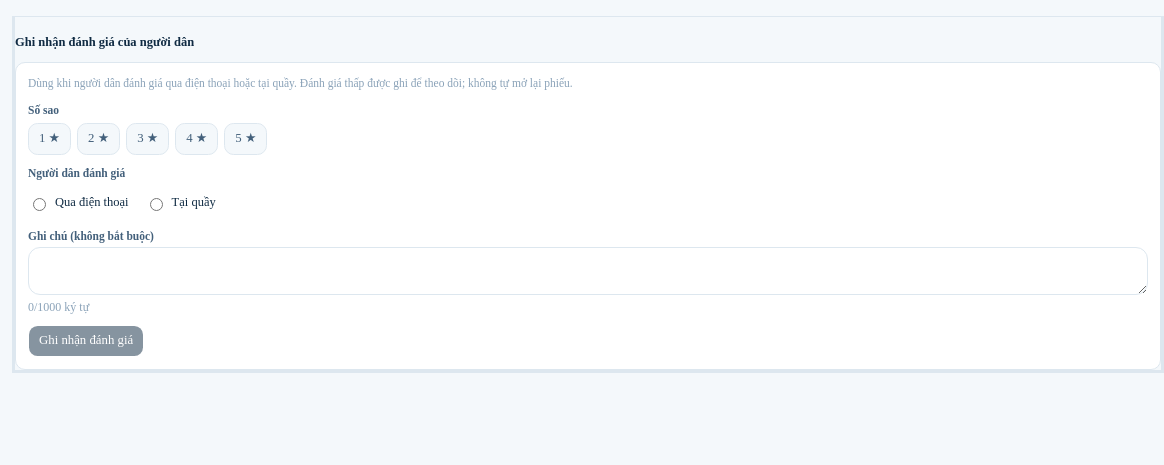
Test: StaffRecordedRatingSection › 409 citizen_rated: the server's sentence, verbatim, and nothing handed up
What coordinates should you click on to do the following:
click the button "2 ★"
I would click on:
 (99, 139)
Its box is [77,123,120,155].
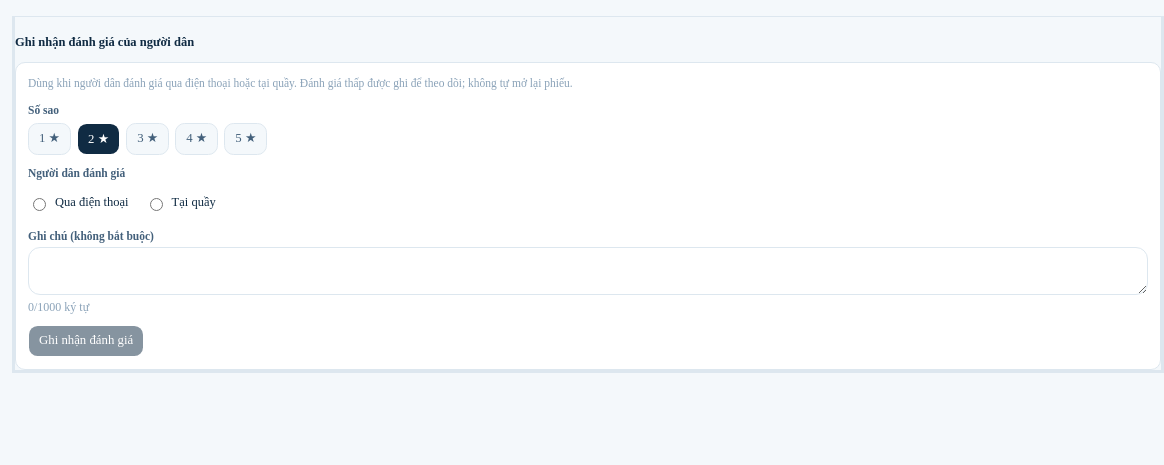
What coordinates should you click on to do the following:
click the radio button labelled "Tại quầy"
I would click on:
 (156, 204)
Its box is [150,198,163,210].
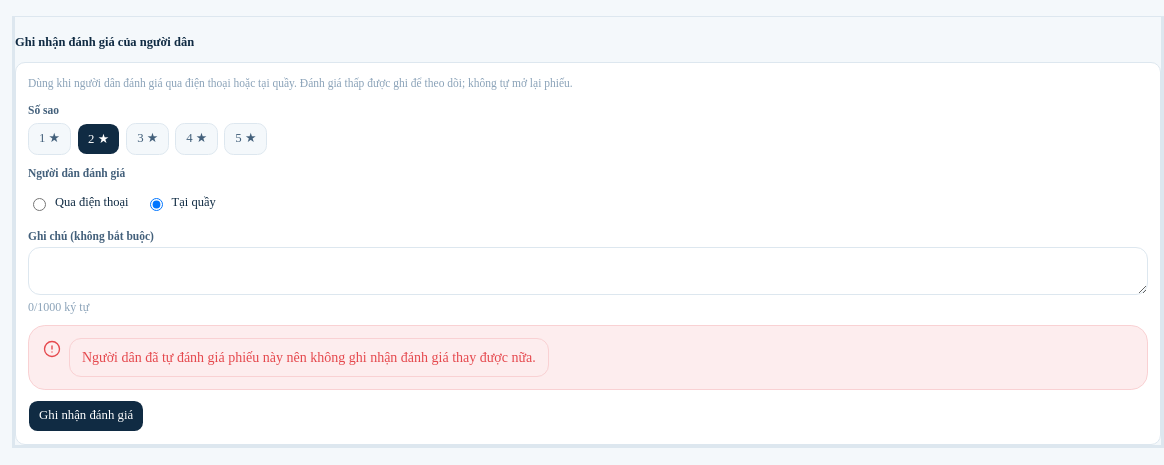
Now the message "Người dân đã tự đánh giá phiếu này nên không ghi nhận đánh giá thay được nữa." is shown, box [69,338,549,377]
